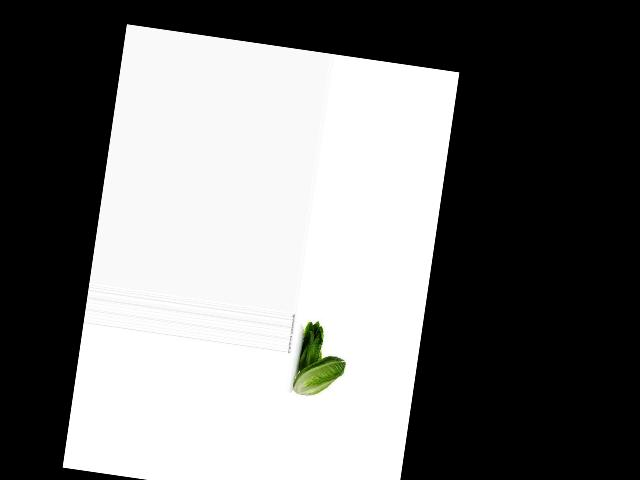lettuce: (291, 319, 331, 374)
